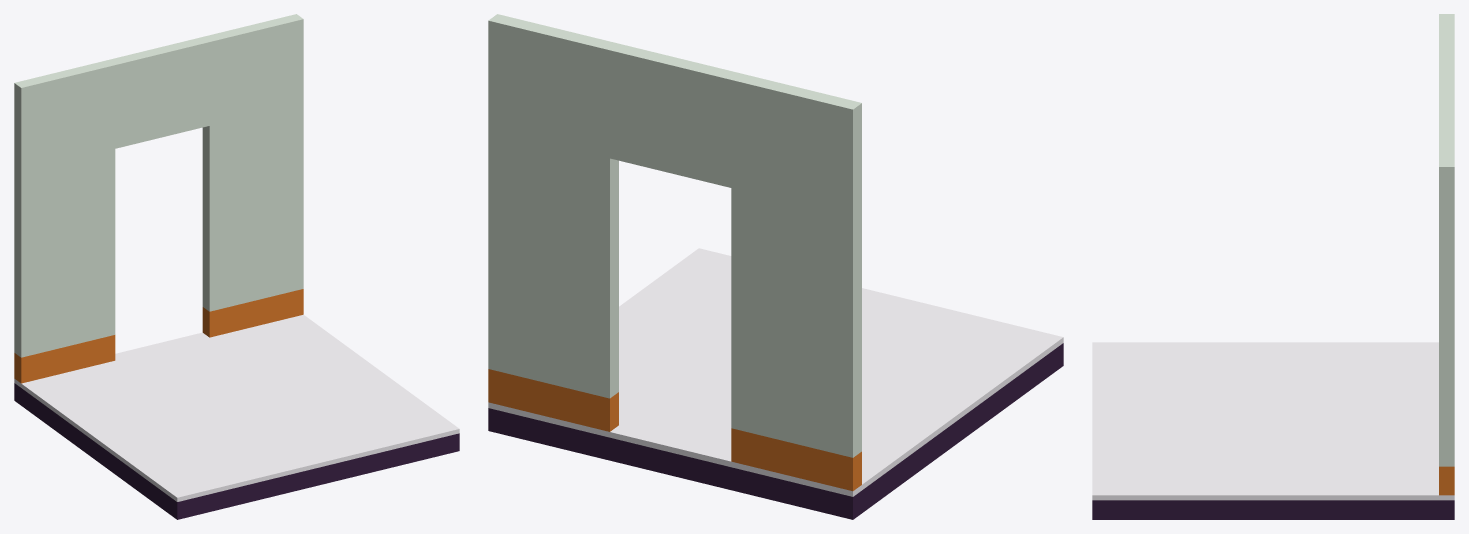
File: wall-door.glb
The picture shows the model from 3 angles, left to right: view 1: azimuth 30°, elevation 25°; view 2: azimuth 150°, elevation 25°; view 3: azimuth 270°, elevation 25°; orthographic projection. The views are drawn at different scales.
Visible parts, largest first — view 1: wall-door; view 2: wall-door; view 3: wall-door.
Boxes of the visible parts, x1,y1,x2,y2 form: wall-door: [14, 14, 459, 519]; wall-door: [488, 14, 1063, 519]; wall-door: [1092, 14, 1454, 519].
Size of the model in its own units: 2 by 2.15 by 2.
Materials: 1 (1 with a texture image).
